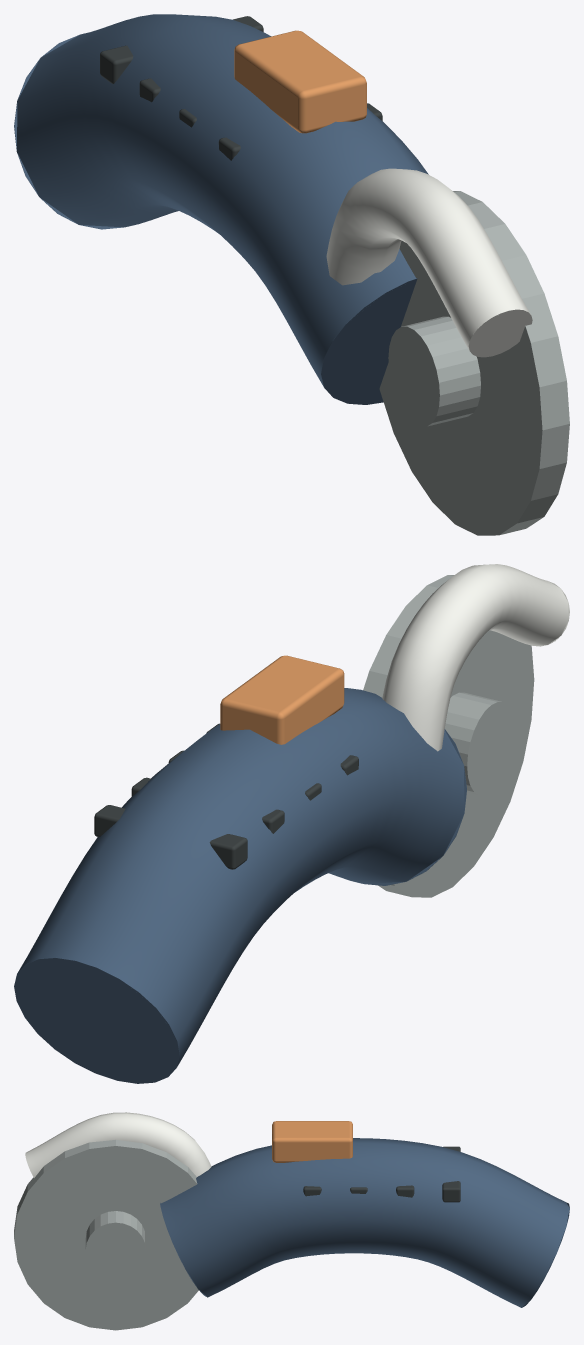
File: spacecraft-parachute-packing-hall-spacecraft-parachute-0b564fcd__32107.glb
3 renders of one model, top to bottom at view 1: azimuth 30°, elevation 25°; view 2: azimuth 150°, elevation 25°; view 3: azimuth 270°, elevation 25°, orthographic. The views are drawn at different scales.
Visible parts, largest first — view 1: spacecraft-parachute-packing-hall-rotary-textile-cutter; view 2: spacecraft-parachute-packing-hall-rotary-textile-cutter; view 3: spacecraft-parachute-packing-hall-rotary-textile-cutter.
Boxes of the visible parts, <box> form: spacecraft-parachute-packing-hall-rotary-textile-cutter: <box>14,14,569,535</box>; spacecraft-parachute-packing-hall-rotary-textile-cutter: <box>14,564,569,1083</box>; spacecraft-parachute-packing-hall-rotary-textile-cutter: <box>14,1112,569,1330</box>.
Size of the model in its own units: 0.05 by 0.096 by 0.2402.
